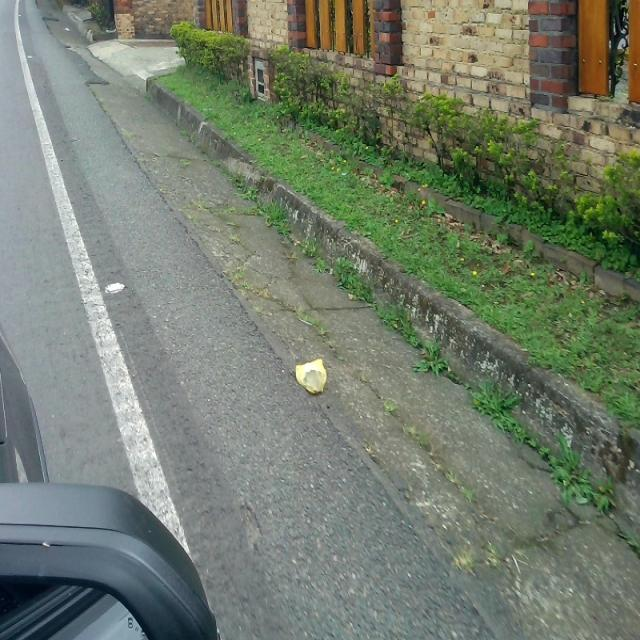DITCH: (17, 2, 638, 637), (53, 34, 638, 637)
